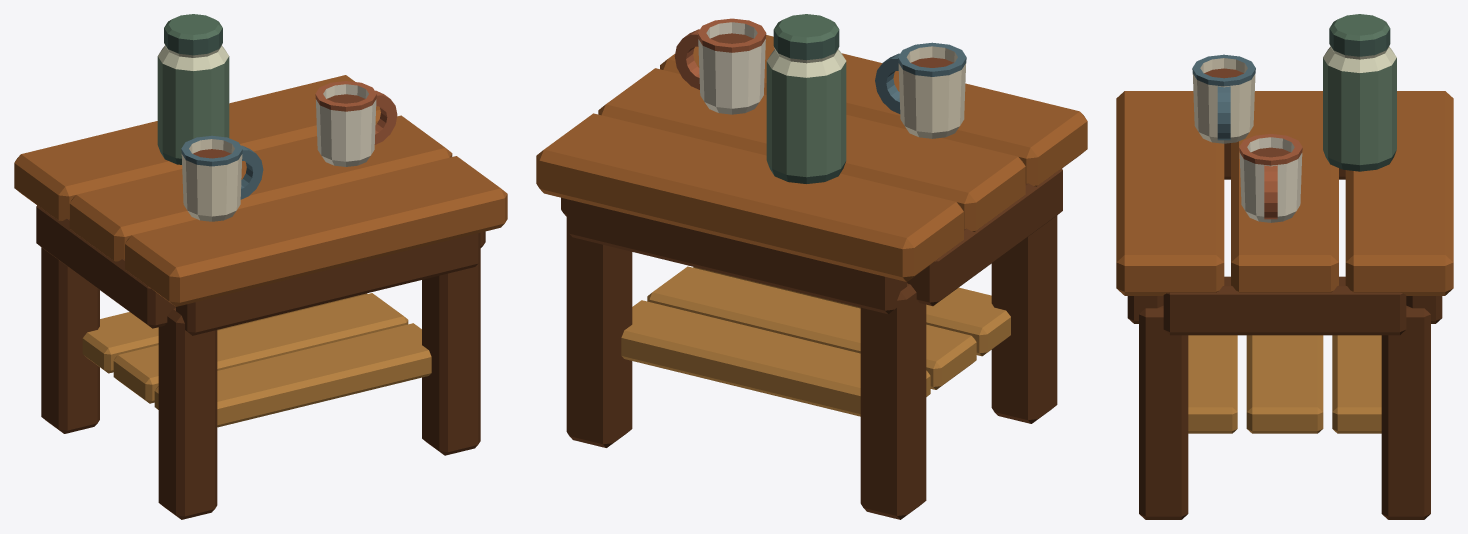
File: GardenTeaTable.glb
3 renders of one model, left to right at view 1: azimuth 30°, elevation 25°; view 2: azimuth 150°, elevation 25°; view 3: azimuth 270°, elevation 25°, orthographic. The views are drawn at different scales.
Parts seen in each view (by area): view 1: GardenTeaTable_Timber, GardenTeaTable_TeaSet; view 2: GardenTeaTable_Timber, GardenTeaTable_TeaSet; view 3: GardenTeaTable_Timber, GardenTeaTable_TeaSet.
Boxes of the visible parts, x1,y1,x2,y2 form: GardenTeaTable_Timber: (14,75,507,519); GardenTeaTable_TeaSet: (157,14,397,221); GardenTeaTable_Timber: (536,35,1087,519); GardenTeaTable_TeaSet: (674,14,966,183); GardenTeaTable_Timber: (1116,91,1453,519); GardenTeaTable_TeaSet: (1192,14,1396,222).
Size of the model in its own units: 0.864 by 0.9552 by 0.72.
